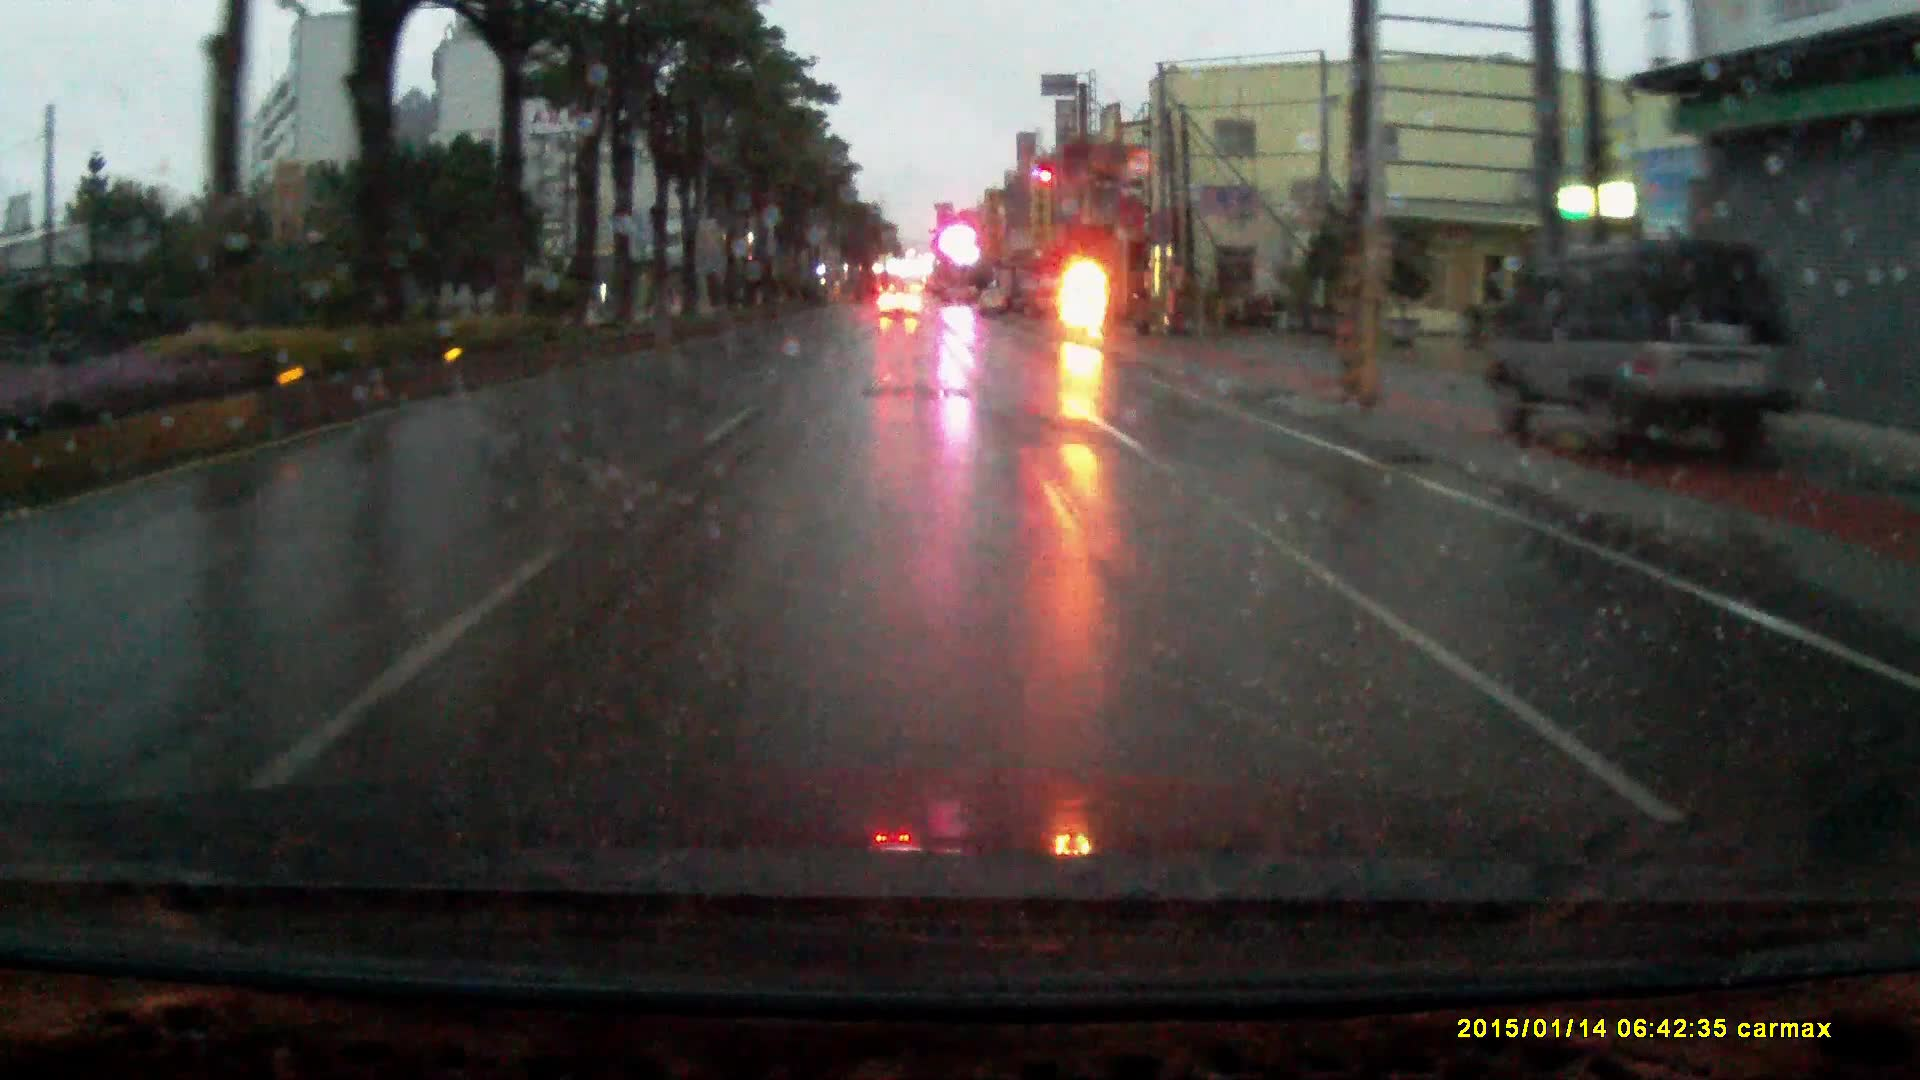vehicle: (1505, 231, 1821, 465), (1011, 286, 1076, 327), (877, 282, 924, 318)
